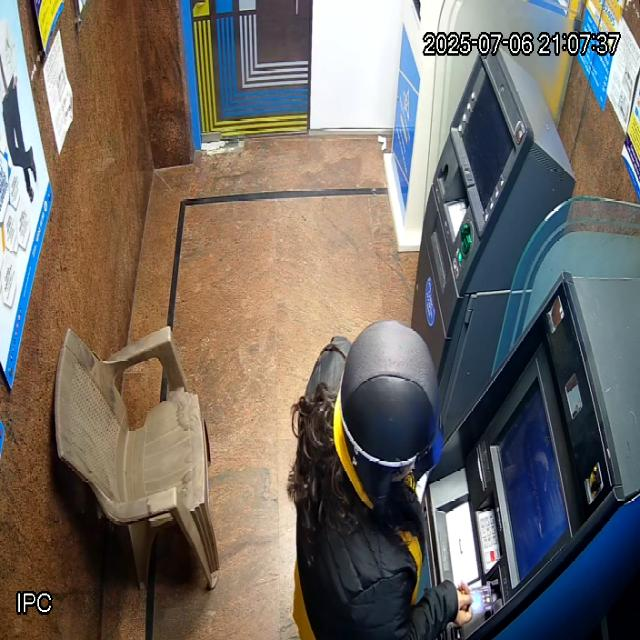helmet: (339, 320, 441, 508)
